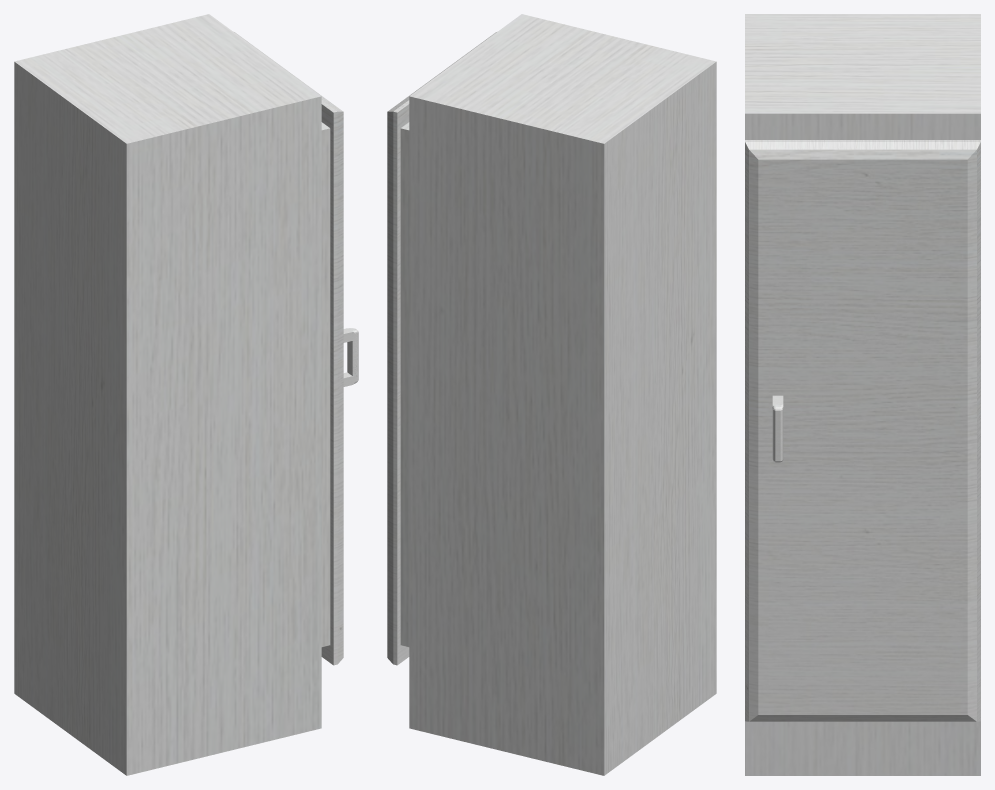
The model's file is FridgeV2.gltf.
The picture shows the model from 3 angles, left to right: view 1: azimuth 30°, elevation 25°; view 2: azimuth 150°, elevation 25°; view 3: azimuth 270°, elevation 25°; orthographic projection. The views are drawn at different scales.
Parts seen in each view (by area): view 1: Cube, Cube.001; view 2: Cube; view 3: Cube, Cube.001.
Part boxes in pixels (bbox=[...]): Cube: bbox=[14, 14, 343, 775]; Cube.001: bbox=[343, 328, 358, 386]; Cube: bbox=[387, 14, 716, 775]; Cube: bbox=[745, 14, 980, 775]; Cube.001: bbox=[772, 395, 783, 462].
Size of the model in its own units: 0.6322 by 1.55 by 0.5.
Materials: 2 (2 with a texture image).
